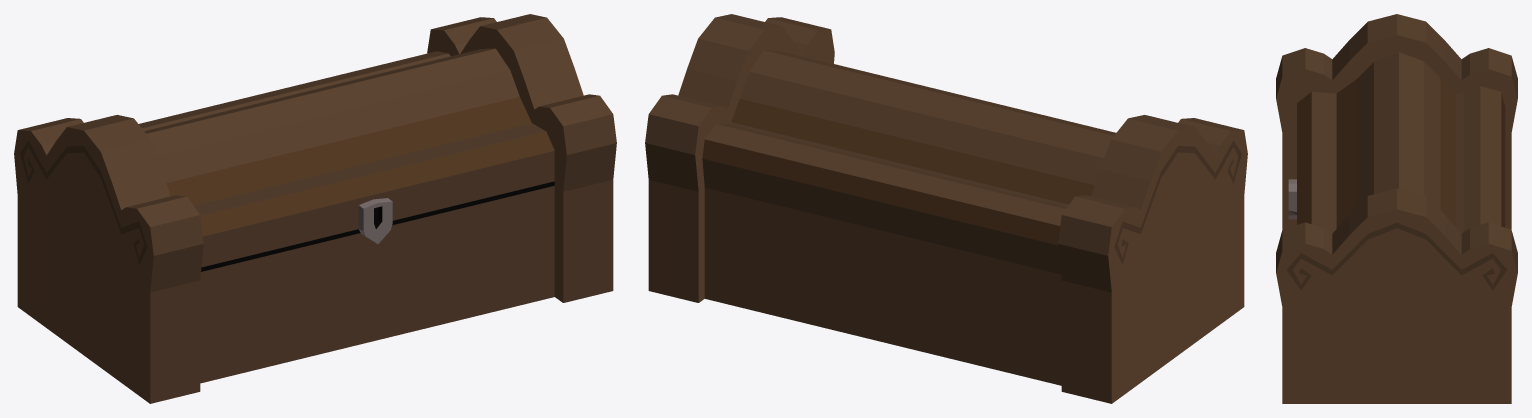
Rendered from treasure-chest-clues.gltf.
The picture shows the model from 3 angles, left to right: view 1: azimuth 30°, elevation 25°; view 2: azimuth 150°, elevation 25°; view 3: azimuth 270°, elevation 25°; orthographic projection. The views are drawn at different scales.
Size of the model in its own units: 222 by 103 by 116.
Materials: 1 (1 with a texture image).
